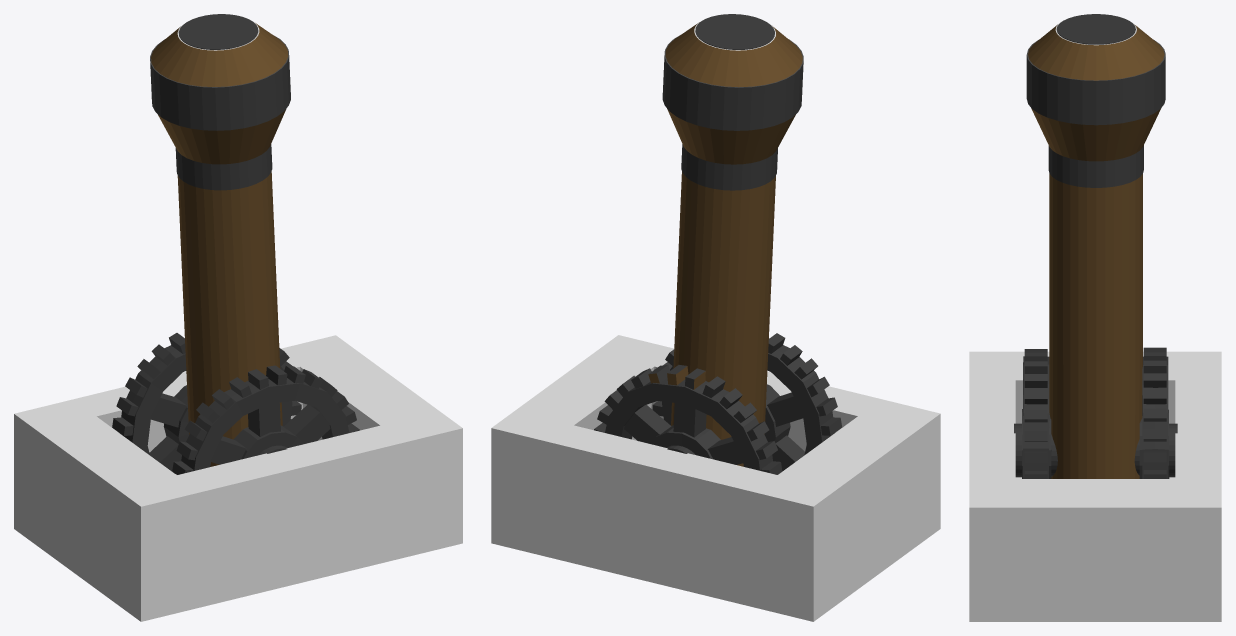
File: newarm.fbx
3 renders of one model, left to right at view 1: azimuth 30°, elevation 25°; view 2: azimuth 150°, elevation 25°; view 3: azimuth 270°, elevation 25°, orthographic.
Parts seen in each view (by area): view 1: Куб, Цилиндр; view 2: Куб, Цилиндр; view 3: Цилиндр, Куб.
Part boxes in pixels (box(x1,y1,x2,y2)): Куб: box(14, 335, 462, 621); Цилиндр: box(112, 14, 359, 474); Куб: box(491, 335, 940, 621); Цилиндр: box(594, 14, 841, 474); Цилиндр: box(1014, 14, 1177, 478); Куб: box(969, 351, 1221, 621).
Bounding box in the file's own units: 479 × 727 × 328.
